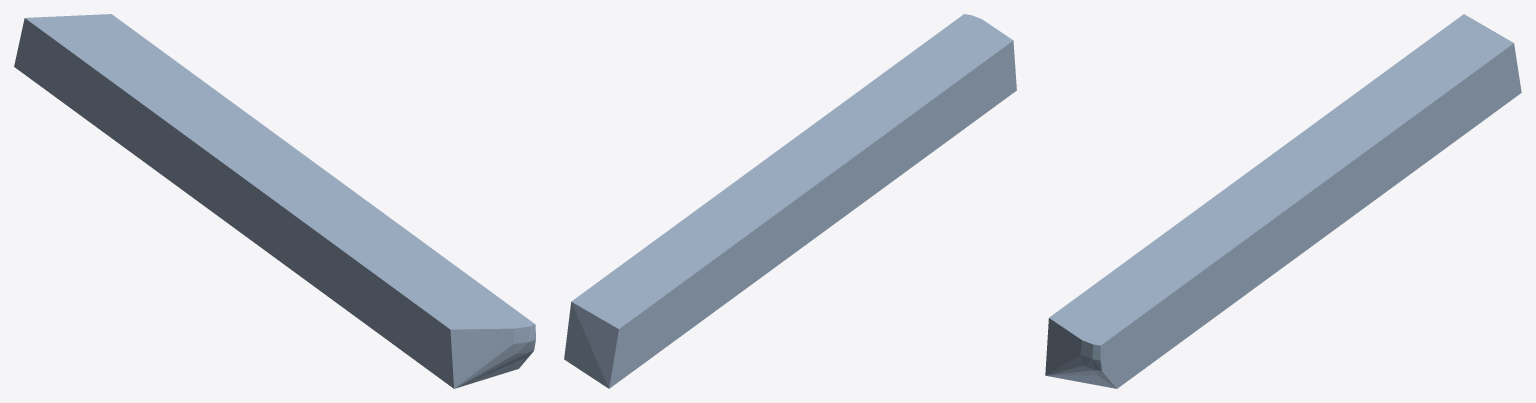
Rendered from convex_piece_6.obj.
3 views of the same model, side by side, from view 1: azimuth 30°, elevation 25°; view 2: azimuth 150°, elevation 25°; view 3: azimuth 330°, elevation 25° (orthographic). The views are drawn at different scales.
Bounding box in the file's own units: 0.00557 × 0.00436 × 0.0633.
